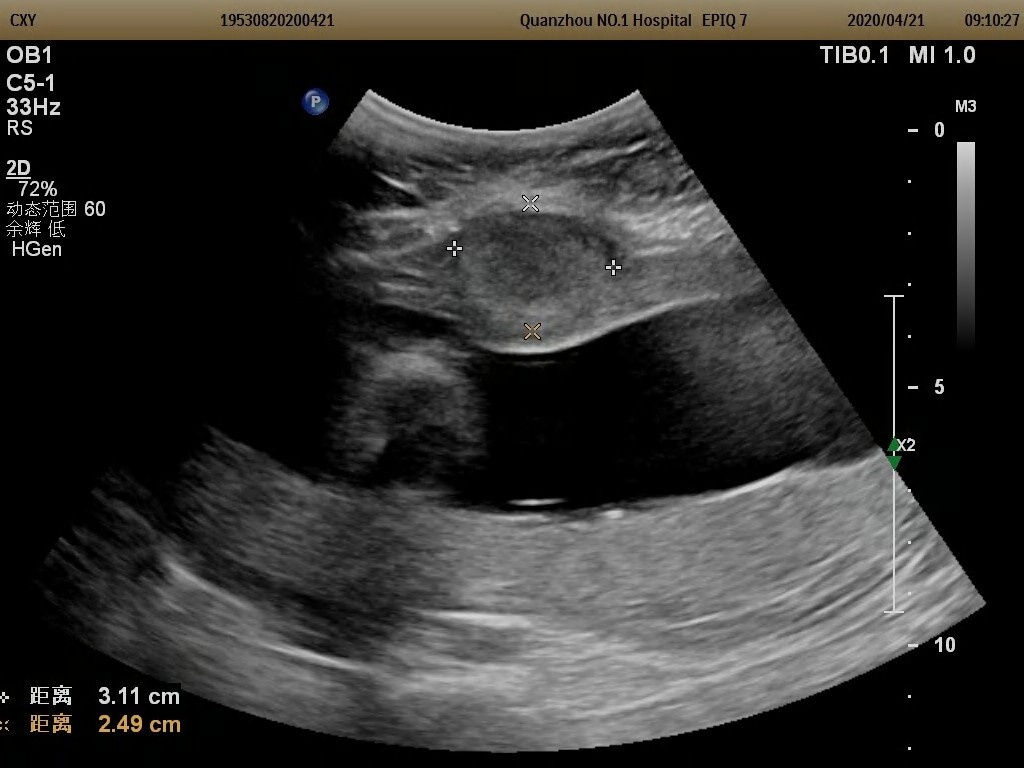肌瘤: (455, 205, 616, 330)
